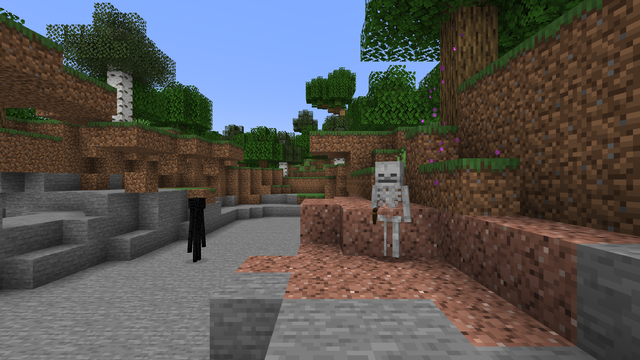endermens: (186, 195, 205, 262)
squelettes: (373, 161, 408, 259)
